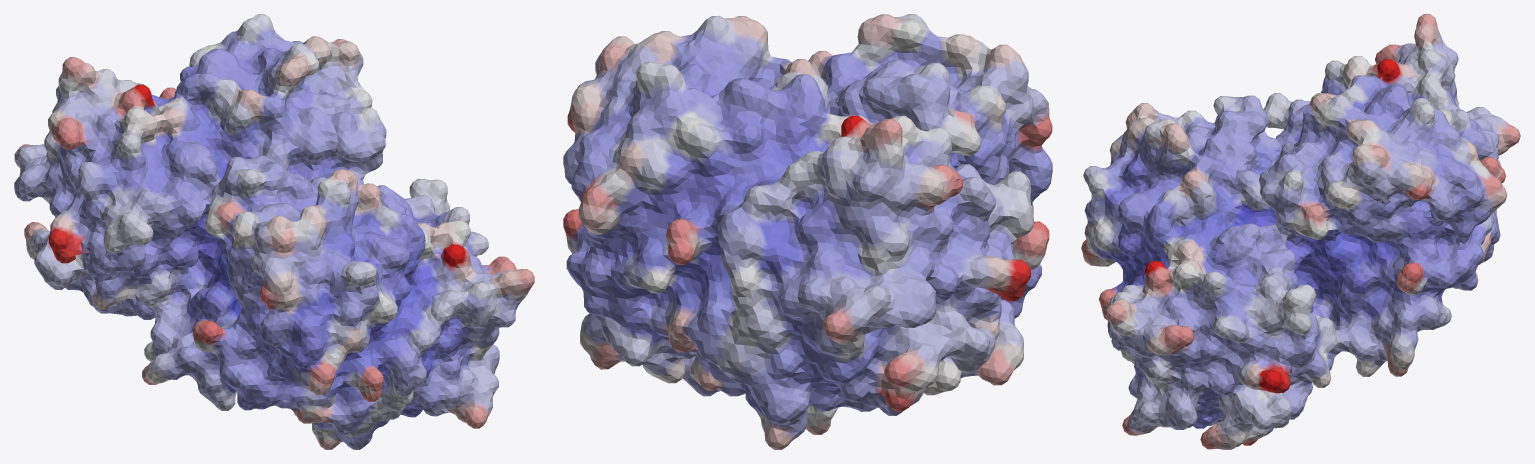
The model's file is 1gfl__surface__b-factor.glb.
The picture shows the model from 3 angles, left to right: view 1: azimuth 30°, elevation 25°; view 2: azimuth 150°, elevation 25°; view 3: azimuth 270°, elevation 25°; orthographic projection. The views are drawn at different scales.
Parts seen in each view (by area): view 1: Renderer Node; view 2: Renderer Node; view 3: Renderer Node.
Boxes of the visible parts, x1,y1,x2,y2 form: Renderer Node: [14, 14, 534, 449]; Renderer Node: [563, 14, 1052, 449]; Renderer Node: [1081, 14, 1520, 449].
Bounding box in the file's own units: 64.29 × 56.7 × 65.79.
